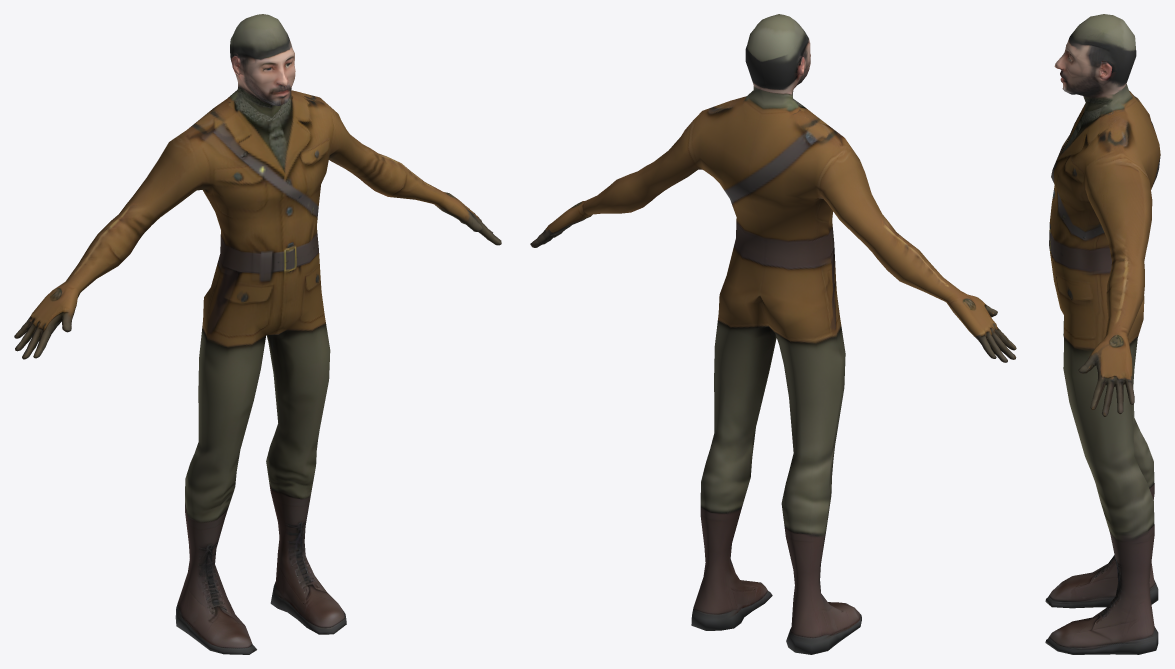
Rendered from soldier_1.glb.
3 renders of one model, left to right at view 1: azimuth 30°, elevation 25°; view 2: azimuth 150°, elevation 25°; view 3: azimuth 270°, elevation 25°, orthographic.
Visible parts, largest first — view 1: Mesh_0; view 2: Mesh_0; view 3: Mesh_0.
Boxes of the visible parts, x1,y1,x2,y2 form: Mesh_0: (14, 14, 501, 654); Mesh_0: (530, 14, 1016, 654); Mesh_0: (1045, 14, 1160, 654).
Size of the model in its own units: 1.65 by 2 by 0.345.
1 material, 1 textured.
